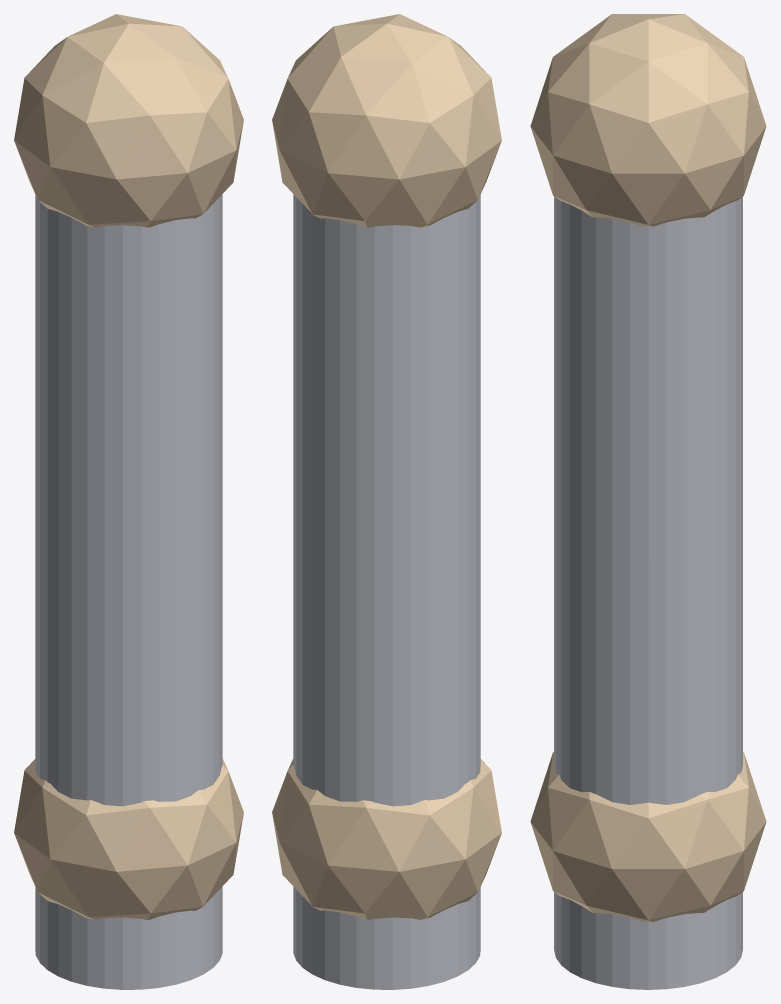
File: hall.fbx_filar_2_001.fbx
3 renders of one model, left to right at view 1: azimuth 30°, elevation 25°; view 2: azimuth 150°, elevation 25°; view 3: azimuth 270°, elevation 25°, orthographic.
Visible parts, largest first — view 1: Cylinder.096, Icosphere.005, Icosphere.004; view 2: Cylinder.096, Icosphere.005, Icosphere.004; view 3: Cylinder.096, Icosphere.005, Icosphere.004.
Boxes of the visible parts, x1=… form: Cylinder.096: x1=35, y1=194, x2=222, y2=989; Icosphere.005: x1=14, y1=14, x2=243, y2=227; Icosphere.004: x1=14, y1=759, x2=243, y2=920; Cylinder.096: x1=293, y1=194, x2=480, y2=989; Icosphere.005: x1=272, y1=14, x2=501, y2=227; Icosphere.004: x1=272, y1=759, x2=501, y2=920; Cylinder.096: x1=554, y1=196, x2=742, y2=989; Icosphere.005: x1=530, y1=14, x2=766, y2=226; Icosphere.004: x1=530, y1=752, x2=766, y2=921.
Size of the model in its own units: 190 by 870 by 200.
